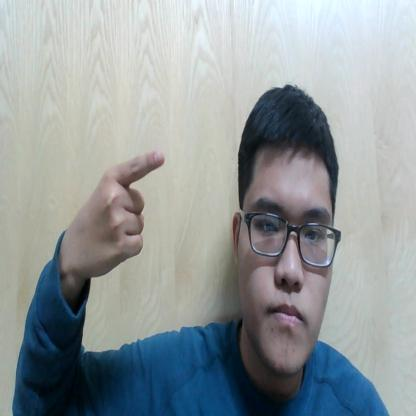left: (67, 138, 176, 280)
